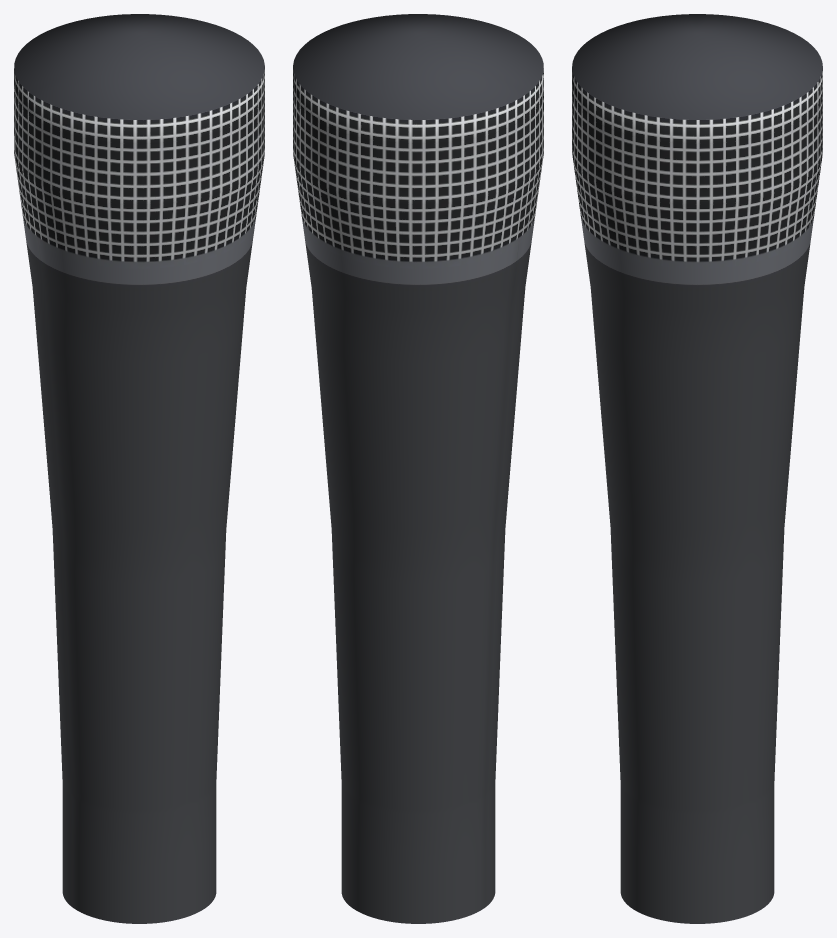
The model's file is audix-i5.glb.
The picture shows the model from 3 angles, left to right: view 1: azimuth 30°, elevation 25°; view 2: azimuth 150°, elevation 25°; view 3: azimuth 270°, elevation 25°; orthographic projection.
Parts seen in each view (by area): view 1: audix-i5-body; view 2: audix-i5-body; view 3: audix-i5-body.
Boxes of the visible parts, x1,y1,x2,y2 form: audix-i5-body: (14,14,264,923); audix-i5-body: (293,14,543,923); audix-i5-body: (572,14,822,923).
Bounding box in the file's own units: 0.0375 × 0.1415 × 0.0375.
1 material, 1 textured.
